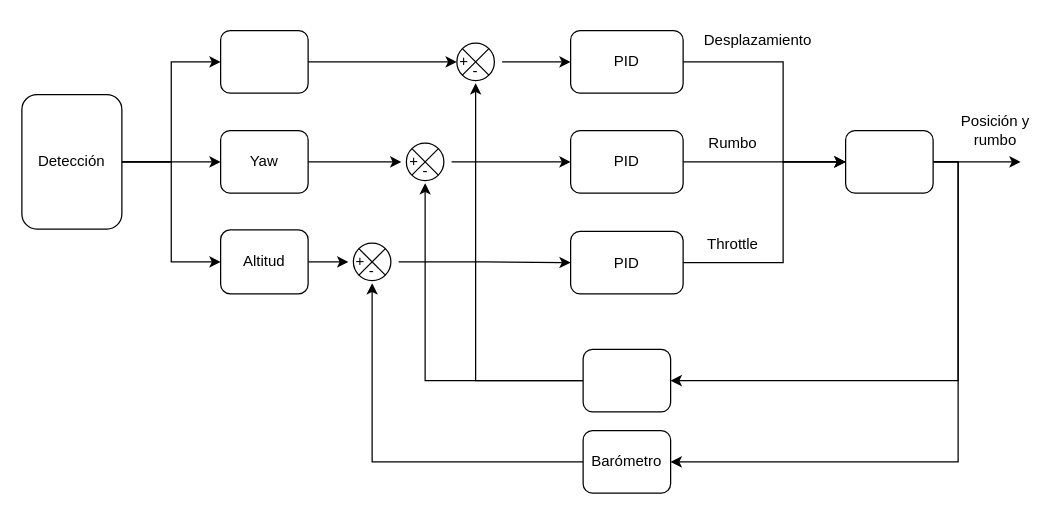
This 1055x515 diagram has some shape labels left out. The shapes that lost their labels are listed below. From the top down, each one's centre as x and y in pixels, then its label:
At pixel 263 61: "Distancia".
At pixel 888 161: "Dron".
At pixel 626 380: "Cámara".
